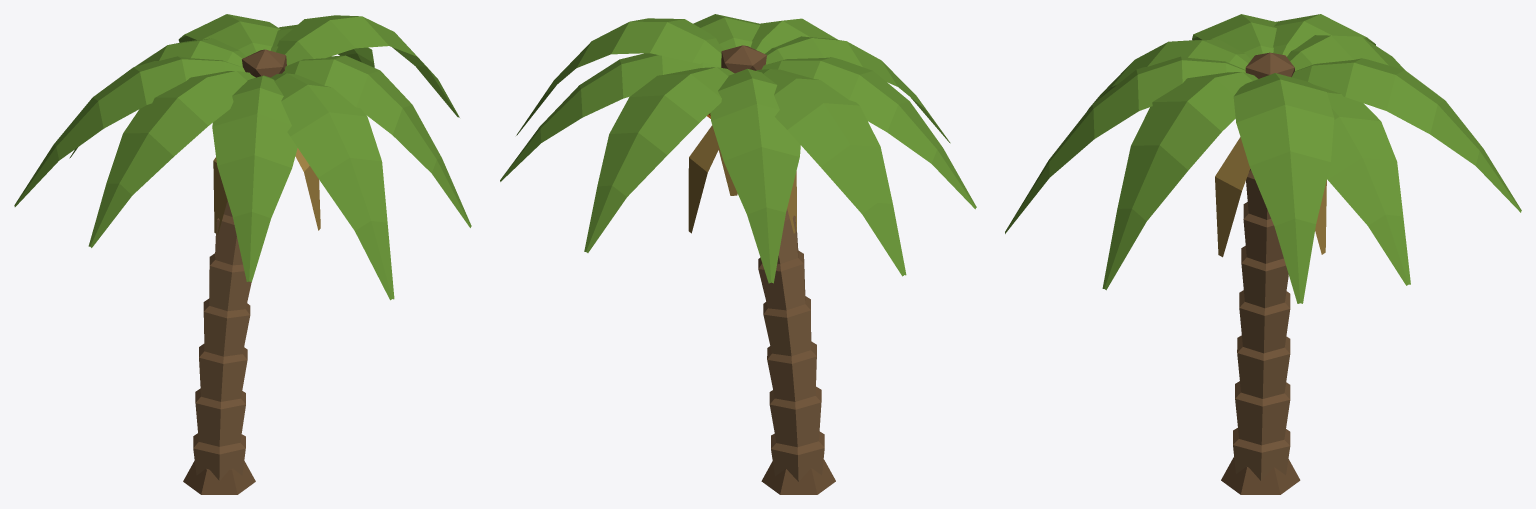
Rendered from palm_a.glb.
3 views of the same model, side by side, from view 1: azimuth 30°, elevation 25°; view 2: azimuth 150°, elevation 25°; view 3: azimuth 270°, elevation 25° (orthographic). The views are drawn at different scales.
Visible parts, largest first — view 1: palm_a; view 2: palm_a; view 3: palm_a.
Boxes of the visible parts, x1,y1,x2,y2 form: palm_a: [14, 14, 471, 494]; palm_a: [500, 14, 976, 494]; palm_a: [1005, 14, 1521, 494].
Size of the model in its own units: 2.87 by 2.83 by 2.85.
